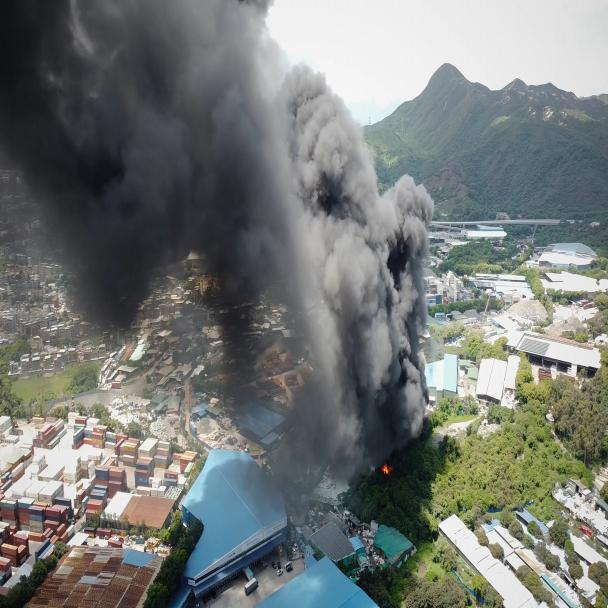Fire: (341, 432, 423, 503)
smoke: (10, 2, 428, 343)
